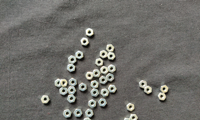nut: (67, 95, 76, 104), (74, 109, 83, 118), (41, 96, 50, 104), (63, 110, 72, 118), (60, 87, 68, 96), (60, 79, 68, 88), (76, 51, 84, 60), (69, 78, 77, 87), (79, 83, 87, 92), (86, 28, 94, 37), (96, 58, 104, 67), (101, 89, 109, 98), (100, 76, 108, 85), (100, 50, 108, 59), (108, 85, 117, 93), (106, 74, 115, 82), (107, 44, 115, 53), (139, 81, 148, 89), (158, 93, 167, 101), (68, 64, 76, 72), (69, 56, 77, 64), (68, 87, 76, 95), (81, 38, 89, 46), (86, 72, 94, 80), (86, 110, 94, 118), (91, 89, 99, 97), (91, 81, 99, 89), (93, 70, 101, 78), (99, 99, 107, 107), (101, 67, 109, 75), (108, 65, 116, 73), (108, 52, 116, 60), (127, 104, 135, 112), (161, 85, 169, 93), (89, 100, 96, 109), (145, 86, 152, 95), (55, 79, 61, 88), (130, 115, 138, 120), (84, 118, 92, 120), (123, 119, 132, 120)
